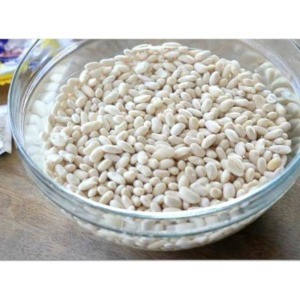beans_brain food: (95, 83, 235, 185)
